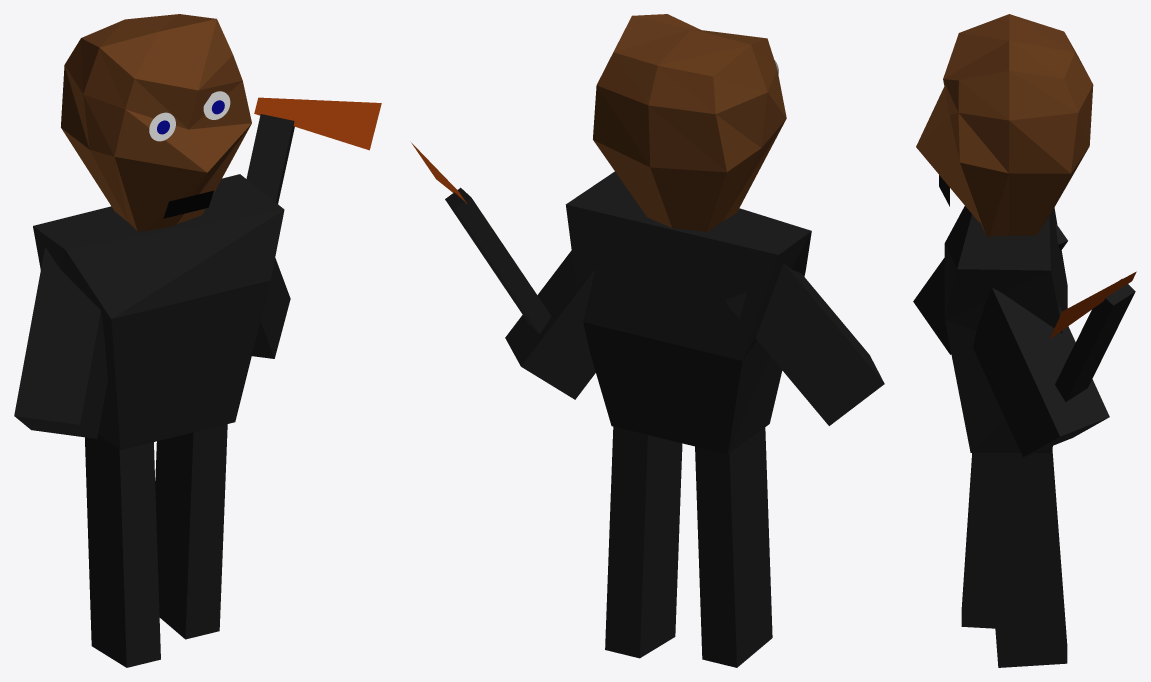
Rendered from axeman1f.obj.
The picture shows the model from 3 angles, left to right: view 1: azimuth 30°, elevation 25°; view 2: azimuth 150°, elevation 25°; view 3: azimuth 270°, elevation 25°; orthographic projection. The views are drawn at different scales.
Parts seen in each view (by area): view 1: Cube.001, Cube, Cube.004, Cube.005, Cube.003, Plane.001, Cube.007, Cube.002, Plane; view 2: Cube.001, Cube, Cube.004, Cube.005, Cube.003, Cube.002, Cube.007; view 3: Cube, Cube.005, Cube.001, Cube.002, Cube.004, Cube.007, Cube.003, Plane.001.
Boxes of the visible parts, x1,y1,x2,y2 form: Cube.001: [33, 174, 284, 449]; Cube: [61, 14, 251, 231]; Cube.004: [85, 434, 160, 667]; Cube.005: [155, 424, 227, 639]; Cube.003: [14, 247, 107, 438]; Plane.001: [254, 97, 381, 150]; Cube.007: [246, 114, 294, 203]; Cube.002: [252, 258, 290, 358]; Plane: [163, 190, 213, 218]; Cube.001: [565, 171, 811, 454]; Cube: [593, 14, 786, 231]; Cube.004: [695, 427, 772, 667]; Cube.005: [605, 426, 682, 658]; Cube.003: [725, 263, 884, 425]; Cube.002: [505, 250, 595, 399]; Cube.007: [445, 187, 551, 333]; Cube: [916, 14, 1093, 236]; Cube.005: [982, 449, 1067, 667]; Cube.001: [944, 206, 1067, 452]; Cube.002: [973, 287, 1109, 457]; Cube.004: [961, 453, 995, 628]; Cube.007: [1055, 278, 1135, 401]; Cube.003: [913, 223, 1067, 354]; Plane.001: [1049, 271, 1136, 339].
Bounding box in the file's own units: 4.22 × 5.88 × 1.99.
